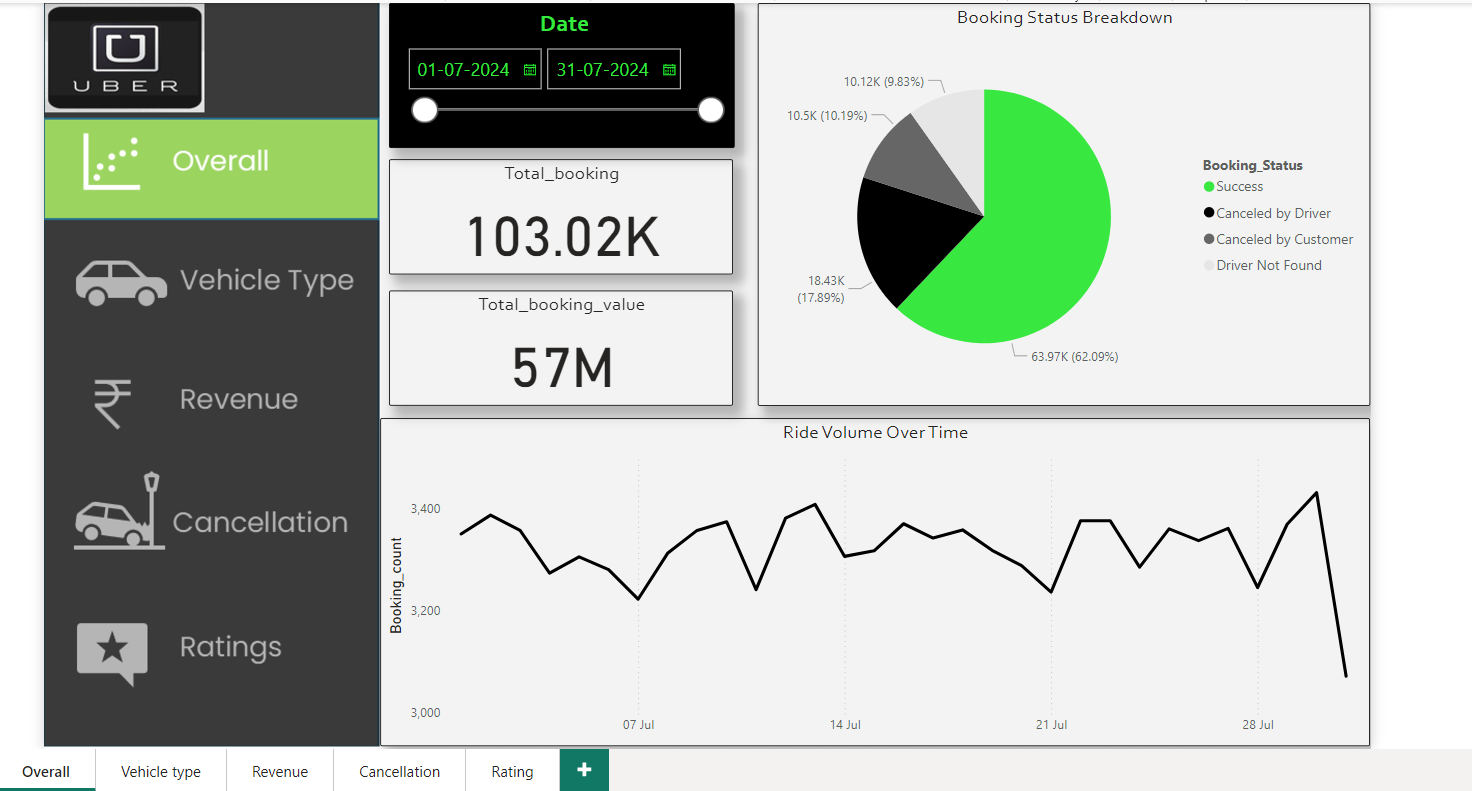

What the dashboard file says about the page in this screenshot:
{"tool":"powerbi","page":{"name":"Overall","canvas":[1280,720],"ordinal":0},"visuals":[{"type":"actionButton","box":[0,222,324.5,100.1],"z":0},{"type":"actionButton","box":[0,339,324.5,100.1],"z":1000},{"type":"actionButton","box":[0,450,324.5,100.1],"z":2000},{"type":"actionButton","box":[0,576.7,324.5,100.1],"z":3000},{"type":"lineChart","title":"Ride Volume Over Time","fields":{"Y":["CountNonNull(July.Booking_ID)"],"Category":["July.Date"]},"box":[325,400.5,955,316.4],"z":4000},{"type":"pieChart","title":"Booking Status Breakdown","fields":{"Category":["July.Booking_Status"],"Y":["CountNonNull(July.Booking_Status)"]},"box":[688.5,0,591.5,389.1],"z":5000},{"type":"slicer","title":"Date","fields":{"Values":["July.Date"]},"box":[333.4,0,333.4,140],"z":6000},{"type":"card","title":"Total_booking","fields":{"Values":["Count(July.Booking_ID)"]},"box":[333.5,151.1,332.1,111.2],"z":7000},{"type":"card","title":"Total_booking_value","fields":{"Values":["Sum(July.Booking_Value)"]},"box":[333.5,278,332.1,111.2],"z":8000}]}

Visuals, with their boxes in screenshot pixels (x1, y1, x2, y2):
actionButton: (left=38, top=228, right=377, bottom=332)
actionButton: (left=38, top=350, right=377, bottom=454)
actionButton: (left=38, top=466, right=377, bottom=570)
actionButton: (left=38, top=598, right=377, bottom=702)
"Ride Volume Over Time" lineChart: (left=377, top=414, right=1374, bottom=744)
"Booking Status Breakdown" pieChart: (left=757, top=0, right=1374, bottom=402)
"Date" slicer: (left=386, top=0, right=734, bottom=142)
"Total_booking" card: (left=386, top=154, right=733, bottom=270)
"Total_booking_value" card: (left=386, top=286, right=733, bottom=402)
